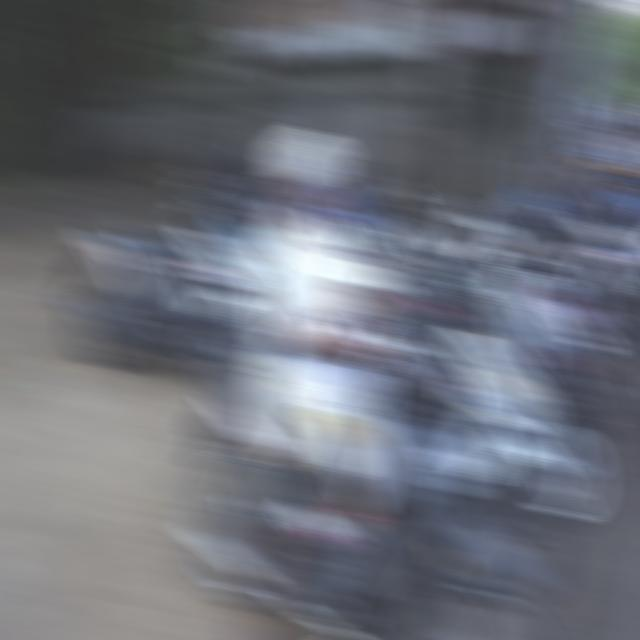Without Helmet: (266, 115, 352, 241)
